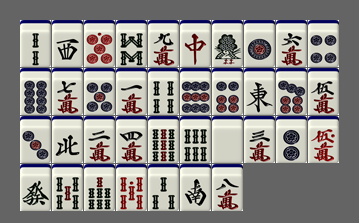0m: (308, 116, 339, 163)
0p: (84, 20, 115, 67)
0s: (116, 164, 147, 211)
1m: (116, 68, 147, 115)
1p: (244, 20, 275, 67)
1s: (212, 20, 243, 67)
1z: (244, 68, 275, 115)
2m: (84, 116, 115, 163)
2p: (276, 116, 307, 163)
2s: (20, 20, 51, 67)
2z: (180, 164, 211, 211)
3m: (244, 116, 275, 163)
3p: (20, 116, 51, 163)
3s: (148, 164, 179, 211)
3z: (52, 20, 83, 67)
4m: (116, 116, 147, 163)
4p: (308, 20, 339, 67)
4s: (148, 68, 179, 115)
4z: (52, 116, 83, 163)
5m: (308, 68, 339, 115)
5p: (84, 68, 115, 115)
5s: (52, 164, 83, 211)
5z: (212, 116, 243, 163)
6m: (276, 20, 307, 67)
6p: (212, 68, 243, 115)
6s: (180, 116, 211, 163)
6z: (20, 164, 51, 211)
7m: (52, 68, 83, 115)
7p: (276, 68, 307, 115)
7s: (84, 164, 115, 211)
7z: (180, 20, 211, 67)
8m: (212, 164, 243, 211)
8p: (20, 68, 51, 115)
8s: (116, 20, 147, 67)
9m: (148, 20, 179, 67)
9p: (180, 68, 211, 115)
9s: (148, 116, 179, 163)
